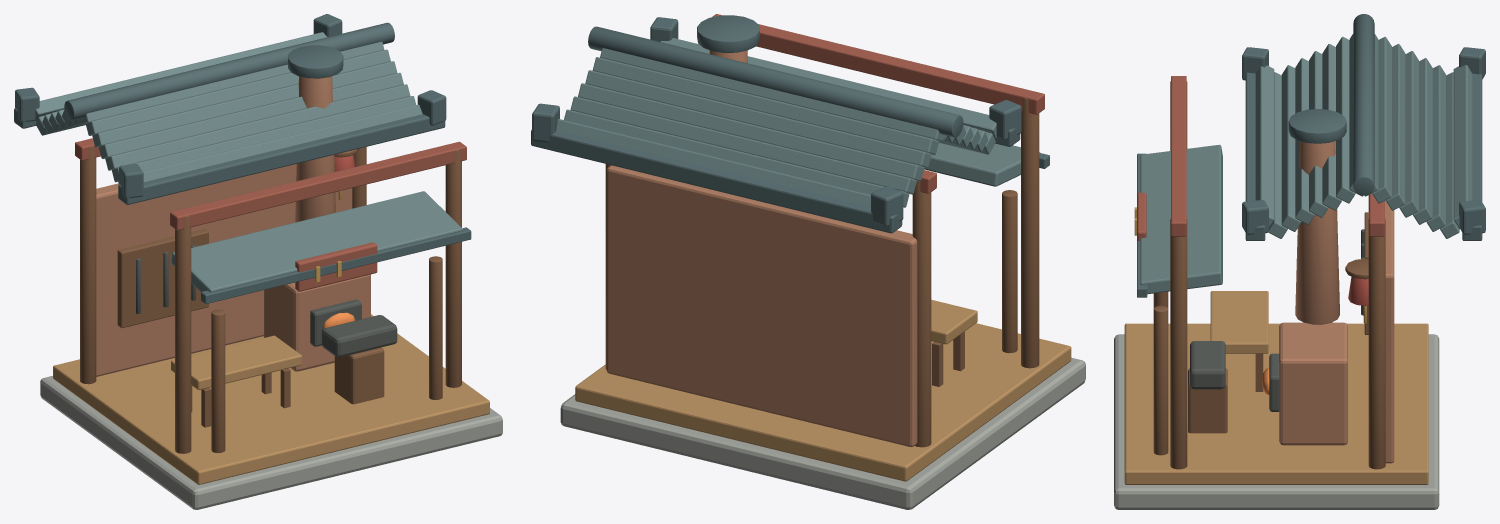
File: building_workshop_open.glb
3 views of the same model, side by side, from view 1: azimuth 30°, elevation 25°; view 2: azimuth 150°, elevation 25°; view 3: azimuth 270°, elevation 25° (orthographic). The views are drawn at different scales.
Visible parts, largest first — view 1: RaisedFloor.004, WorkshopRearWall, Foundation.004, VerandaCanopy.004, TopBeam.008, EaveBeam.008, RoofRidge.004, ForgeBody, ToolRack, TimberPost.016, TimberPost.017, TimberPost.018 (+14 smaller); view 2: WorkshopRearWall, RaisedFloor.004, Foundation.004, RoofRidge.004, EaveBeam.009, TopBeam.008, TimberPost.016, TimberPost.017, VerandaCanopy.004, VerandaPost.008, ChimneyCap, WorkTableTop.002 (+4 smaller); view 3: RaisedFloor.004, Foundation.004, VerandaCanopy.004, ForgeBody, Chimney, TimberPost.019, TimberPost.018, RoofRidge.004, WorkTableTop.002, TopBeam.008, WorkshopRearWall, VerandaPost.009 (+15 smaller).
Boxes of the visible parts, x1,y1,x2,y2 form: RaisedFloor.004: [53, 314, 489, 484]; WorkshopRearWall: [96, 164, 352, 376]; Foundation.004: [40, 376, 502, 509]; VerandaCanopy.004: [171, 191, 462, 292]; TopBeam.008: [170, 141, 466, 230]; EaveBeam.008: [118, 114, 445, 204]; RoofRidge.004: [64, 22, 394, 120]; ForgeBody: [264, 274, 370, 371]; ToolRack: [117, 229, 208, 328]; TimberPost.016: [175, 216, 191, 453]; TimberPost.017: [80, 146, 96, 384]; TimberPost.018: [445, 150, 461, 387]; WorkshopRearWall: [607, 165, 917, 447]; RaisedFloor.004: [575, 323, 1071, 481]; Foundation.004: [560, 357, 1085, 509]; RoofRidge.004: [588, 26, 963, 137]; EaveBeam.009: [531, 129, 902, 233]; TopBeam.008: [712, 14, 1044, 114]; TimberPost.016: [1021, 98, 1039, 368]; TimberPost.017: [912, 181, 931, 447]; VerandaCanopy.004: [924, 143, 1040, 186]; VerandaPost.008: [1002, 190, 1017, 353]; ChimneyCap: [697, 15, 759, 52]; WorkTableTop.002: [931, 299, 977, 344]; RaisedFloor.004: [1124, 323, 1428, 484]; Foundation.004: [1114, 334, 1439, 509]; VerandaCanopy.004: [1140, 144, 1222, 294]; ForgeBody: [1279, 322, 1347, 445]; Chimney: [1295, 141, 1339, 324]; TimberPost.019: [1368, 218, 1385, 469]; TimberPost.018: [1170, 218, 1187, 469]; RoofRidge.004: [1353, 14, 1374, 195]; WorkTableTop.002: [1210, 291, 1268, 353]; TopBeam.008: [1171, 76, 1186, 236]; WorkshopRearWall: [1385, 200, 1394, 463]; VerandaPost.009: [1153, 305, 1168, 455].
Size of the model in its own units: 2.92 by 2.87 by 2.81.
